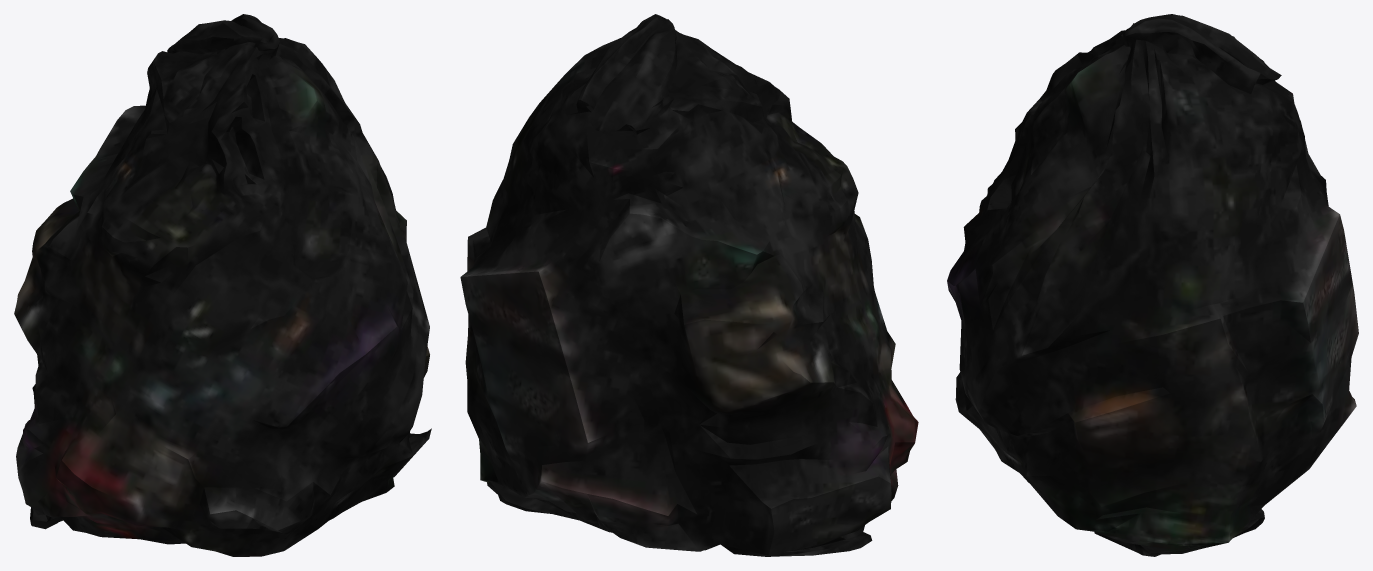
File: trash_bag.glb
3 renders of one model, left to right at view 1: azimuth 30°, elevation 25°; view 2: azimuth 150°, elevation 25°; view 3: azimuth 270°, elevation 25°, orthographic. The views are drawn at different scales.
Visible parts, largest first — view 1: trash_bag; view 2: trash_bag; view 3: trash_bag.
Boxes of the visible parts, x1,y1,x2,y2 form: trash_bag: (14,14,431,556); trash_bag: (460,14,918,556); trash_bag: (947,14,1358,556).
Size of the model in its own units: 0.5281 by 0.575 by 0.4629.
Materials: 1 (1 with a texture image).
